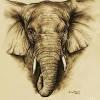elephant: (5, 0, 93, 96)
